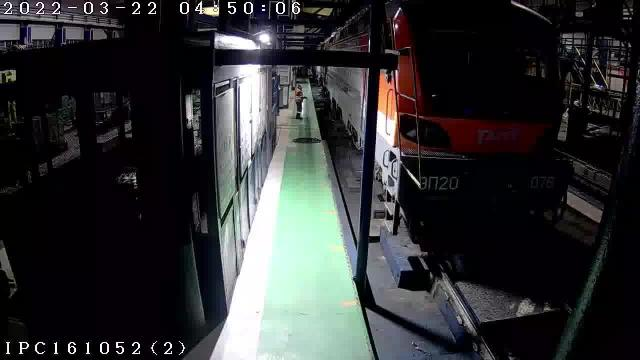person: (295, 84, 306, 119)
train: (376, 1, 571, 250)
